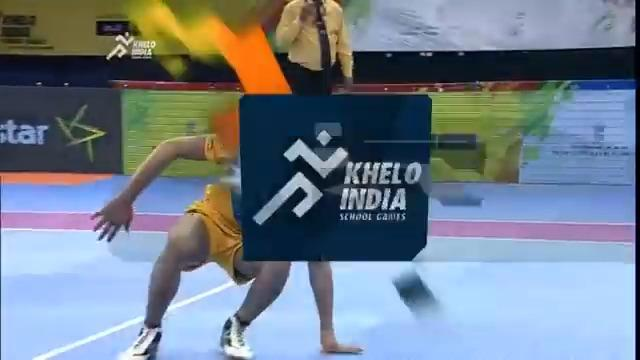referee: (272, 0, 440, 320), (218, 0, 364, 358), (273, 0, 354, 94)
